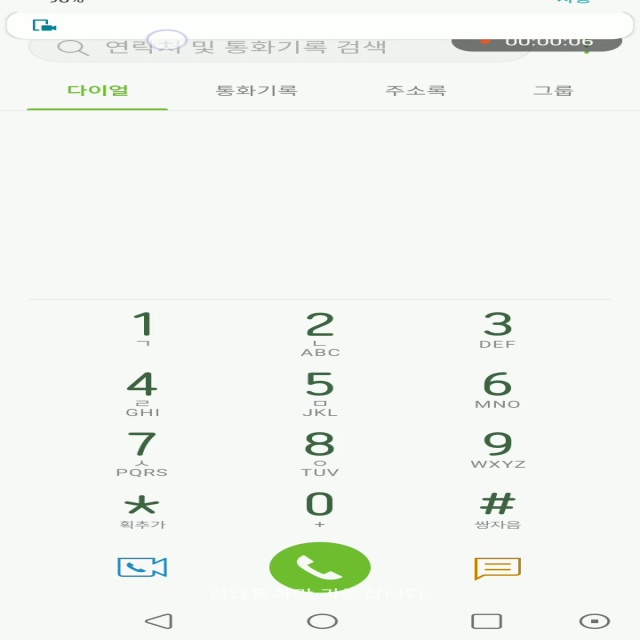Cursor: (145, 28, 190, 51)
